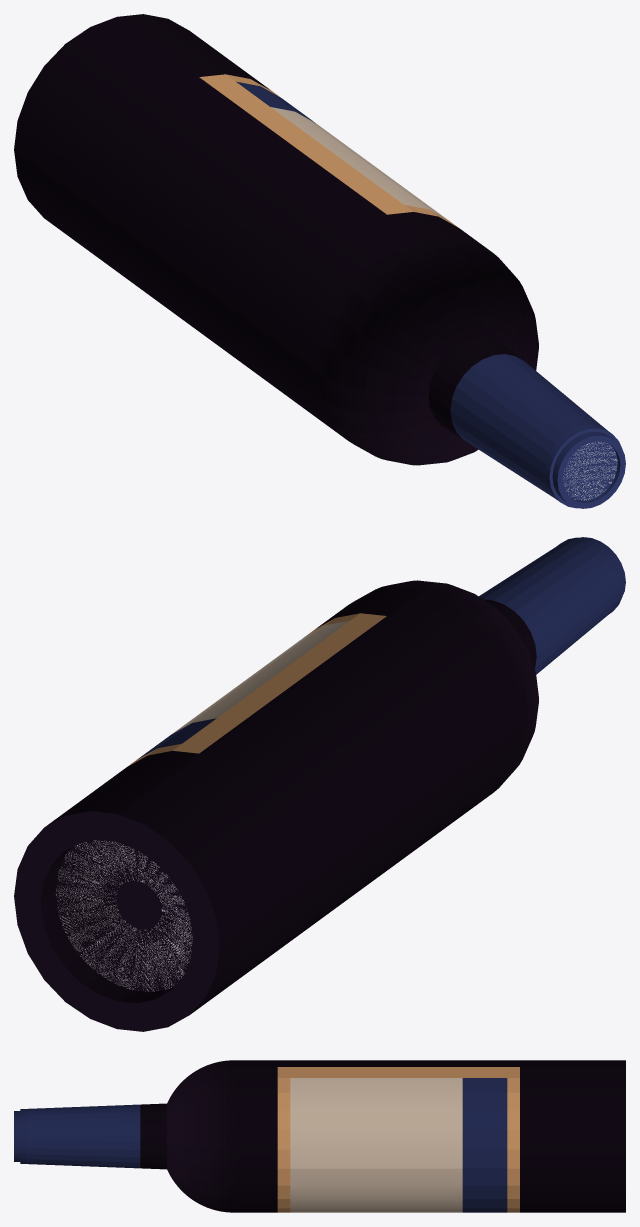
Rendered from model_scale.obj.
The picture shows the model from 3 angles, top to bottom: view 1: azimuth 30°, elevation 25°; view 2: azimuth 150°, elevation 25°; view 3: azimuth 270°, elevation 25°; orthographic projection. The views are drawn at different scales.
Visible parts, largest first — view 1: mesh1_mesh1-geometry; view 2: mesh1_mesh1-geometry; view 3: mesh1_mesh1-geometry.
Part boxes in pixels (x1=…): mesh1_mesh1-geometry: x1=14, y1=14, x2=625, y2=508; mesh1_mesh1-geometry: x1=14, y1=537, x2=625, y2=1031; mesh1_mesh1-geometry: x1=14, y1=1060, x2=625, y2=1212.
Bounding box in the file's own units: 0.0658 × 0.0658 × 0.2633.
